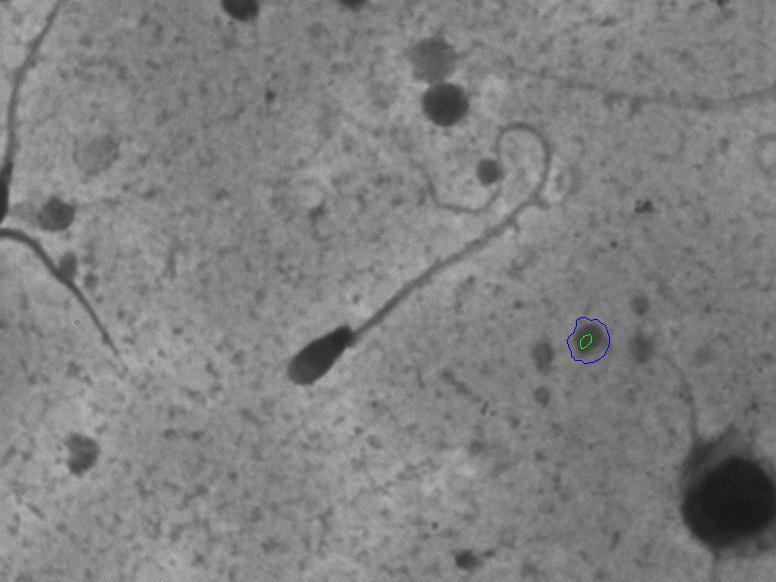Abnormal: (252, 111, 556, 405)
